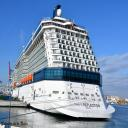cruises: (9, 5, 117, 123)
